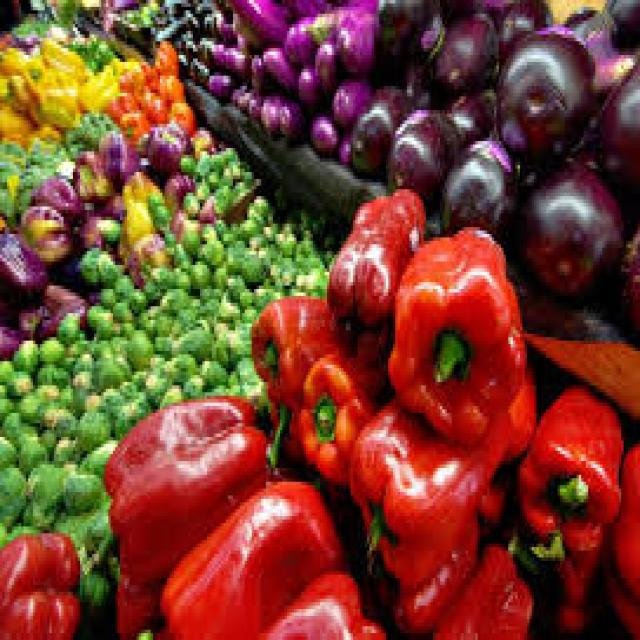biodegradable: (348, 355, 532, 582), (158, 461, 346, 637), (104, 392, 264, 585), (386, 224, 522, 437), (358, 475, 478, 636), (515, 375, 621, 551), (325, 186, 424, 365), (515, 155, 621, 313), (494, 24, 593, 169), (59, 299, 247, 375), (297, 341, 391, 485), (504, 513, 605, 637), (0, 334, 106, 434), (426, 544, 534, 637), (181, 248, 252, 389), (252, 564, 381, 637), (584, 55, 638, 227), (0, 527, 80, 637), (250, 300, 334, 403), (598, 437, 638, 637), (198, 217, 327, 279), (440, 131, 513, 231), (565, 4, 635, 107), (386, 107, 456, 200), (348, 83, 412, 169), (433, 7, 492, 96), (207, 221, 273, 300), (0, 220, 47, 310), (118, 203, 172, 279), (494, 0, 548, 72), (377, 0, 447, 55), (275, 220, 325, 296), (19, 48, 73, 117), (332, 0, 379, 79), (115, 564, 165, 637), (38, 279, 92, 341), (614, 203, 638, 337), (266, 385, 303, 468), (19, 203, 73, 258), (31, 172, 83, 227), (468, 468, 508, 537), (64, 107, 118, 158), (445, 86, 497, 138), (225, 0, 289, 41), (303, 0, 378, 34), (327, 73, 372, 128), (146, 117, 188, 175), (31, 34, 87, 76), (26, 461, 61, 527), (163, 169, 196, 238), (23, 138, 73, 179), (71, 62, 111, 113), (398, 52, 435, 107), (167, 320, 212, 365), (73, 148, 111, 200), (198, 31, 245, 72), (158, 162, 193, 217), (97, 127, 134, 179), (602, 0, 638, 52), (80, 509, 111, 568), (0, 155, 28, 220), (283, 11, 316, 66), (144, 34, 174, 93), (207, 3, 249, 45), (17, 158, 57, 200), (118, 165, 158, 207), (0, 461, 24, 530), (63, 468, 99, 513), (261, 45, 294, 93), (151, 10, 195, 45), (313, 38, 343, 89), (0, 72, 40, 110), (73, 409, 108, 451), (0, 103, 38, 141), (113, 396, 148, 437), (71, 31, 111, 65), (306, 103, 336, 148), (120, 324, 148, 372), (78, 561, 108, 605), (174, 323, 210, 358), (103, 86, 139, 120), (162, 348, 193, 386), (75, 437, 113, 468), (165, 93, 193, 134), (198, 62, 231, 96), (7, 14, 47, 41), (94, 355, 127, 386), (231, 7, 261, 41), (214, 327, 240, 365), (226, 351, 249, 392), (247, 79, 266, 127), (24, 121, 61, 145), (0, 316, 21, 358), (0, 45, 28, 76), (106, 52, 134, 83), (134, 90, 162, 121), (275, 96, 299, 131), (120, 110, 144, 145), (16, 299, 40, 334), (238, 245, 264, 276), (332, 127, 353, 165), (259, 90, 280, 128), (294, 62, 313, 103), (75, 245, 99, 276), (146, 189, 167, 224), (52, 0, 78, 28), (186, 121, 209, 152), (174, 24, 198, 52), (283, 0, 330, 14), (94, 248, 115, 279), (94, 210, 118, 237), (158, 0, 188, 21), (186, 0, 216, 21), (115, 62, 134, 93), (212, 186, 231, 217), (195, 193, 214, 224), (191, 148, 210, 179), (179, 224, 198, 255), (156, 72, 177, 100), (238, 76, 254, 110), (247, 189, 266, 217), (247, 48, 264, 79), (210, 145, 229, 172), (153, 265, 172, 292), (0, 430, 16, 461), (174, 237, 191, 265), (184, 52, 200, 79), (221, 141, 238, 165), (141, 268, 155, 296), (219, 169, 235, 193), (172, 265, 188, 289), (203, 169, 222, 189), (78, 283, 99, 300), (179, 148, 193, 172), (115, 268, 127, 296), (127, 289, 141, 313), (0, 145, 19, 162), (235, 166, 252, 183), (172, 45, 184, 69), (231, 79, 240, 107), (134, 11, 148, 28), (122, 0, 132, 21), (134, 0, 153, 10)
